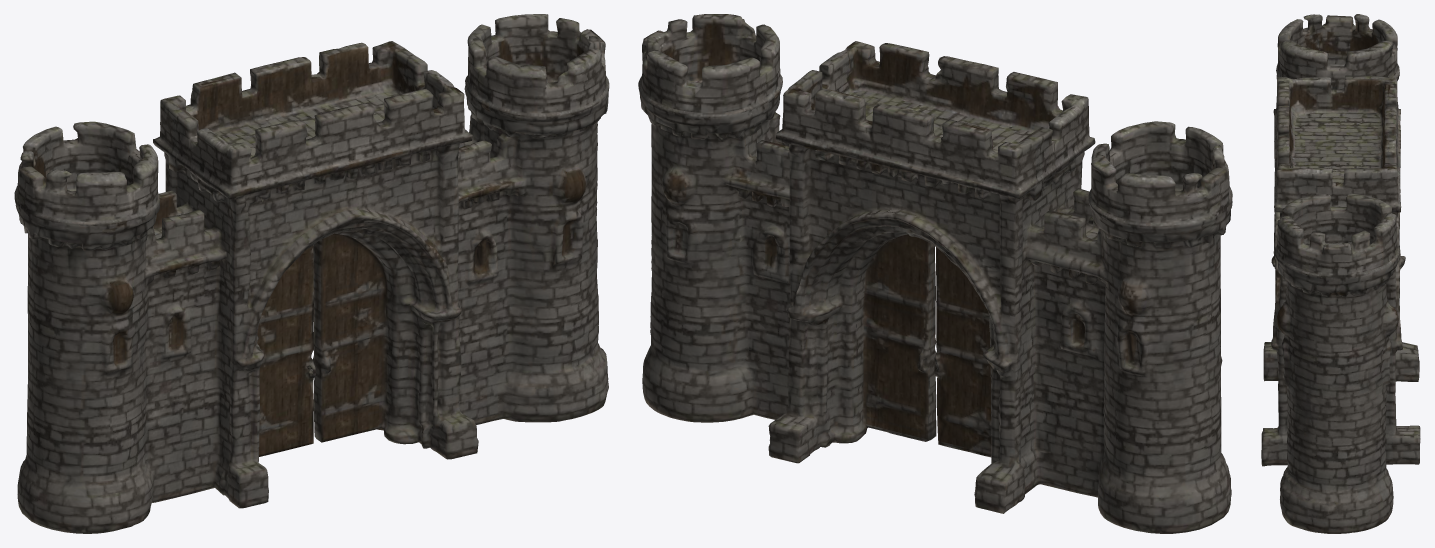
The model's file is castle_gate_towers.glb.
The picture shows the model from 3 angles, left to right: view 1: azimuth 30°, elevation 25°; view 2: azimuth 150°, elevation 25°; view 3: azimuth 270°, elevation 25°; orthographic projection. The views are drawn at different scales.
Parts seen in each view (by area): view 1: castle_gate_towers; view 2: castle_gate_towers; view 3: castle_gate_towers.
Boxes of the visible parts, x1,y1,x2,y2 form: castle_gate_towers: (14, 14, 609, 533); castle_gate_towers: (638, 14, 1232, 533); castle_gate_towers: (1261, 14, 1420, 533).
Size of the model in its own units: 15.99 by 9.71 by 4.61.
Materials: 1 (1 with a texture image).
